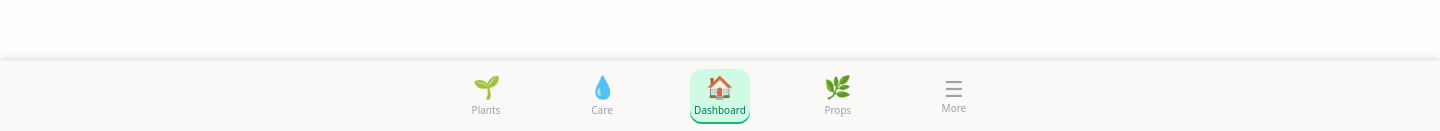
BottomNavigation › Basic Navigation › should show handbook in overflow menu for non-curators
Click to open overflow menu
Step 1. Click the button with aria-label "more navigation options" → (954, 96), box left=926, top=70, right=982, bottom=122
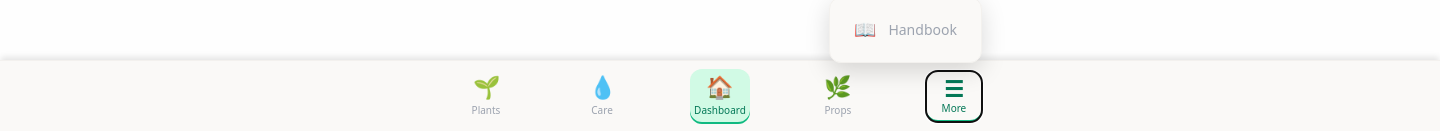
Check: the link with aria-label "navigate to handbook" is shown, box left=854, top=16, right=957, bottom=40
